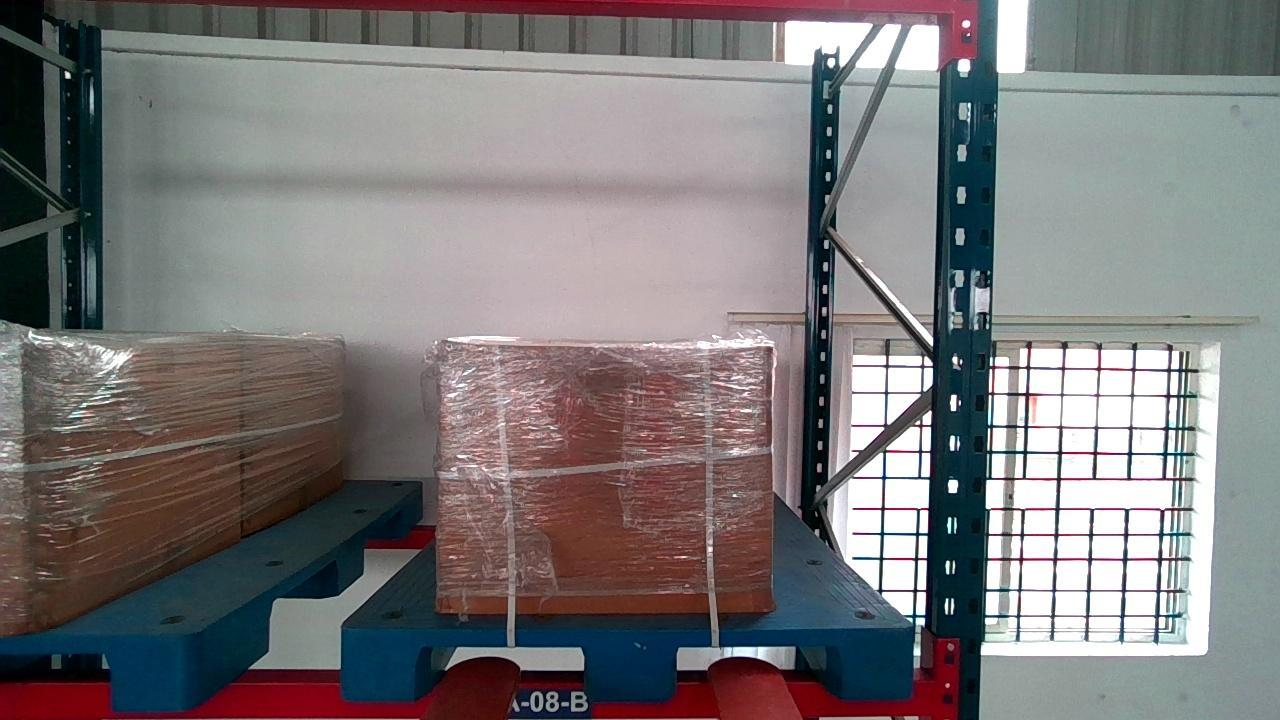h_rack: (0, 676, 934, 720)
small_pallet: (339, 624, 916, 703)
